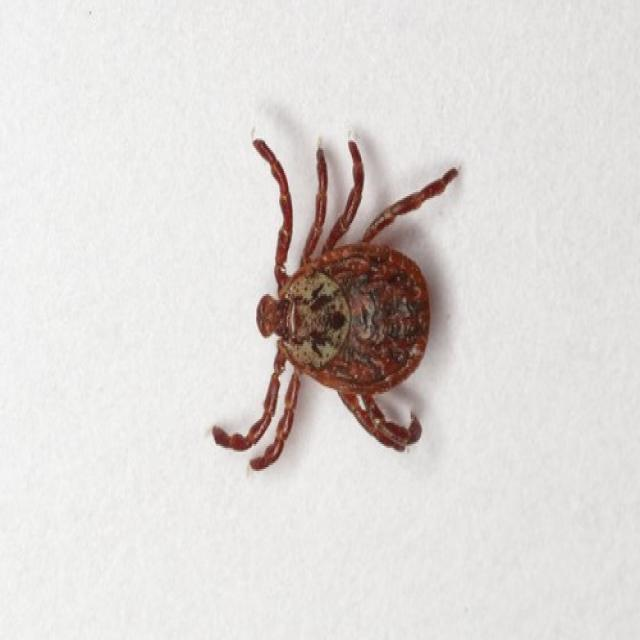Dermacentor Reticulatus-F: (209, 136, 456, 471)
